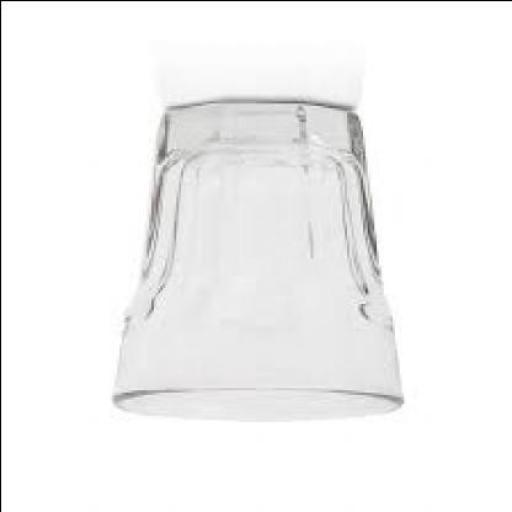glass: (110, 103, 400, 423)
